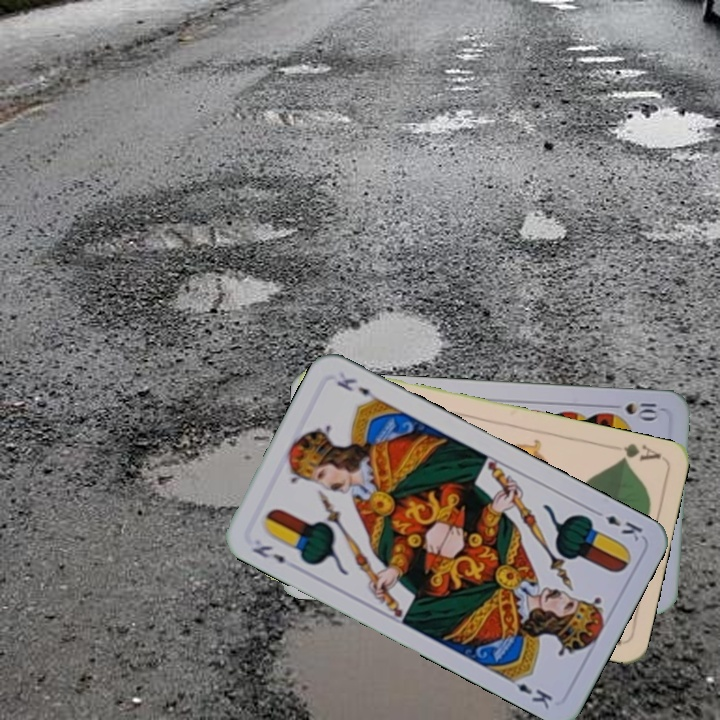EK: (589, 505, 645, 544), (248, 541, 288, 566)
GA: (615, 439, 664, 466)
S10: (605, 398, 662, 422)
